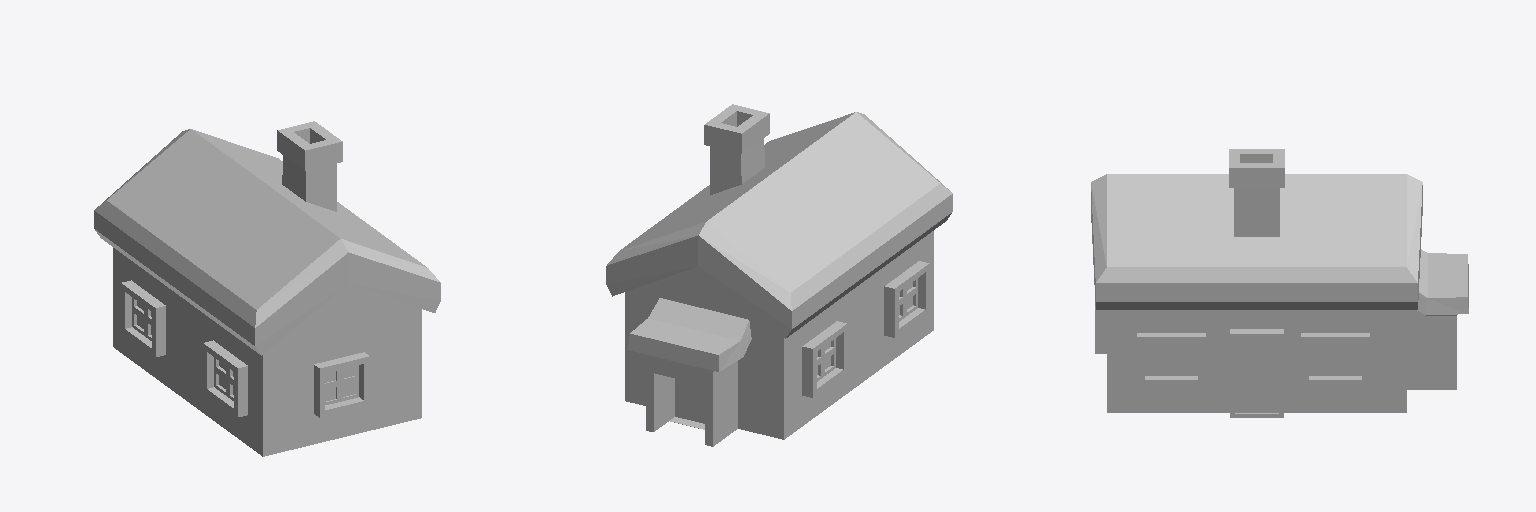
File: HouseRed.obj
3 renders of one model, left to right at view 1: azimuth 30°, elevation 25°; view 2: azimuth 150°, elevation 25°; view 3: azimuth 270°, elevation 25°, orthographic.
Visible parts, largest first — view 1: Cube.001; view 2: Cube.001; view 3: Cube.001.
Boxes of the visible parts, x1=… form: Cube.001: x1=94, y1=121, x2=440, y2=456; Cube.001: x1=606, y1=104, x2=952, y2=446; Cube.001: x1=1091, y1=149, x2=1468, y2=417.
Size of the model in its own units: 0.3865 by 0.4698 by 0.6808.